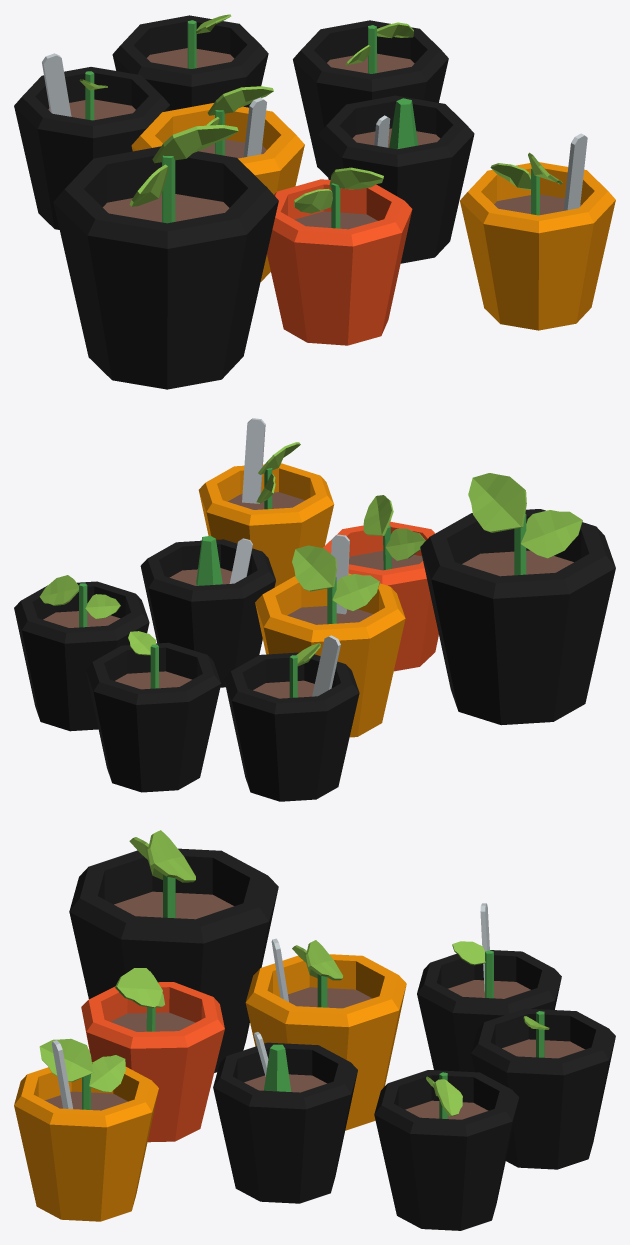
3 views of the same model, one above another, from view 1: azimuth 30°, elevation 25°; view 2: azimuth 150°, elevation 25°; view 3: azimuth 270°, elevation 25° (orthographic). The views are drawn at different scales.
Parts seen in each view (by area): view 1: group_1283830076, group_1064217336, group_1299267421, group_1592232942, group_1689936441, group_1914783450, group_1429698972, group_1512650756; view 2: group_1283830076, group_1689936441, group_1429698972, group_1512650756, group_1592232942, group_1914783450, group_1064217336, group_1299267421; view 3: group_1283830076, group_1064217336, group_1592232942, group_1914783450, group_1429698972, group_1512650756, group_1299267421, group_1689936441.
Boxes of the visible parts, x1,y1,x2,y2 form: group_1283830076: (53,125,278,389); group_1064217336: (460,133,615,330); group_1299267421: (267,167,412,345); group_1592232942: (318,95,474,263); group_1689936441: (14,53,169,229); group_1914783450: (293,20,448,176); group_1429698972: (112,14,268,110); group_1512650756: (131,86,304,281); group_1283830076: (420,473,615,725); group_1689936441: (224,635,359,801); group_1429698972: (85,631,221,792); group_1512650756: (255,534,405,737); group_1592232942: (140,535,275,687); group_1914783450: (14,575,149,731); group_1064217336: (198,418,334,586); group_1299267421: (323,495,438,671); group_1283830076: (69,830,278,1072); group_1064217336: (14,1038,158,1221); group_1592232942: (213,1032,357,1203); group_1914783450: (374,1070,519,1230); group_1429698972: (471,1008,615,1169); group_1512650756: (245,938,406,1130); group_1299267421: (81,968,224,1142); group_1689936441: (417,903,561,1071).
Bounding box in the file's own units: 34.92 × 15.42 × 37.35.
